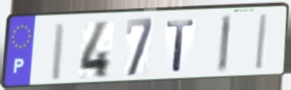4: (78, 19, 113, 81)
7: (124, 17, 154, 81)
I: (48, 22, 68, 84), (216, 14, 234, 76), (253, 12, 271, 72)
T: (165, 18, 197, 75)
